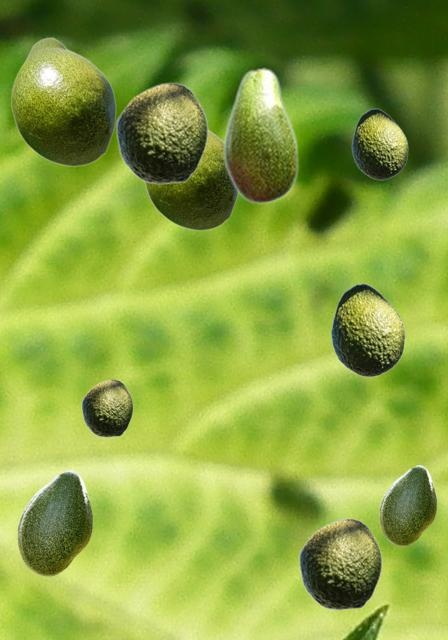avocado: (10, 37, 115, 166), (223, 66, 298, 204), (144, 129, 238, 230), (115, 82, 207, 183), (17, 470, 91, 575), (298, 518, 381, 609), (330, 283, 404, 376), (379, 465, 435, 545), (351, 108, 407, 179), (81, 379, 132, 436)
